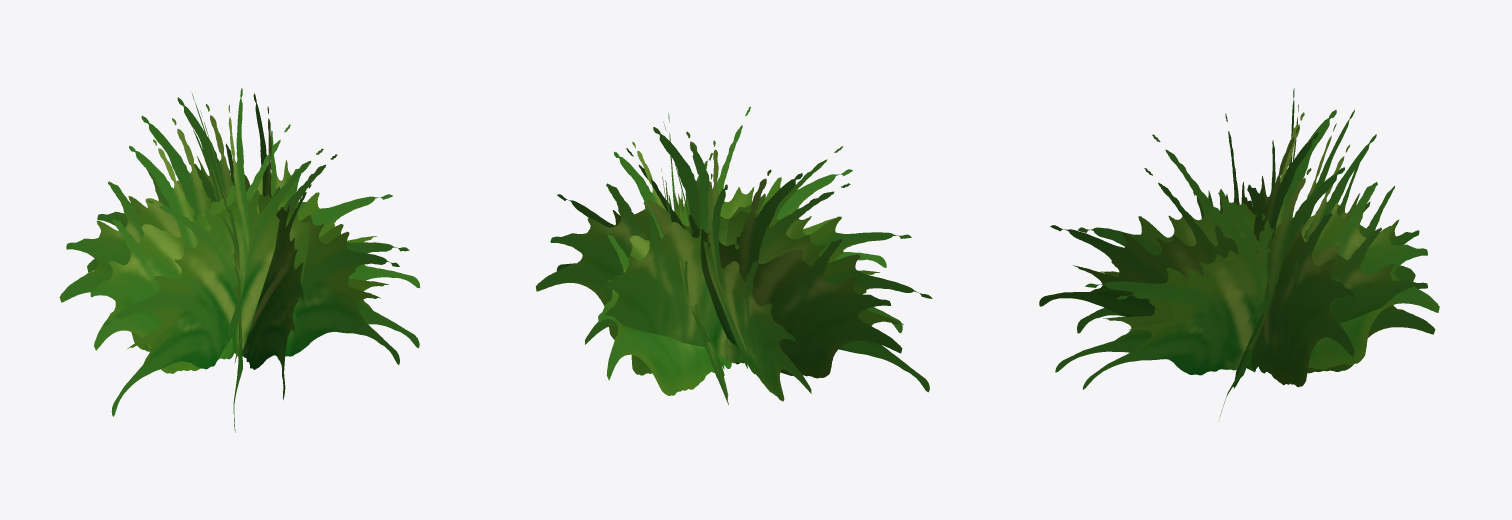
Rendered from Trawa.fbx.
3 views of the same model, side by side, from view 1: azimuth 30°, elevation 25°; view 2: azimuth 150°, elevation 25°; view 3: azimuth 270°, elevation 25° (orthographic). The views are drawn at different scales.
Parts seen in each view (by area): view 1: Plane.009; view 2: Plane.009; view 3: Plane.009.
Part boxes in pixels (box(x1,y1,x2,y2)): Plane.009: box(59, 88, 419, 432); Plane.009: box(535, 106, 932, 404); Plane.009: box(1039, 88, 1439, 417).
Bounding box in the file's own units: 156 × 126 × 148.
1 material, 1 textured.
